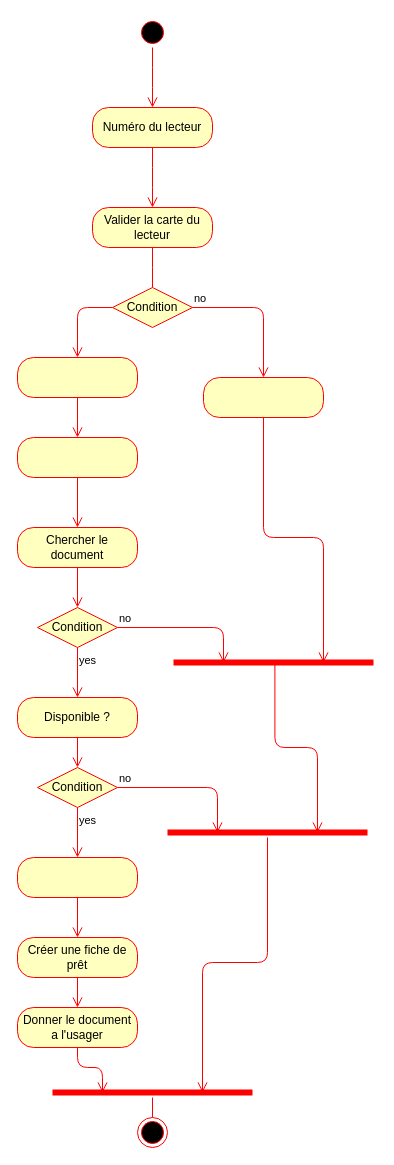
The diagram is 394 pixels wide and 1165 high, and some of its shapes have lost their labels. Each missing label, with the centre of its shape:
Mettre a jour le staut document: the point at 77,877
Refuser prêt: the point at 263,397
Saisir côte du document: the point at 77,457
Valider prêt: the point at 77,377
